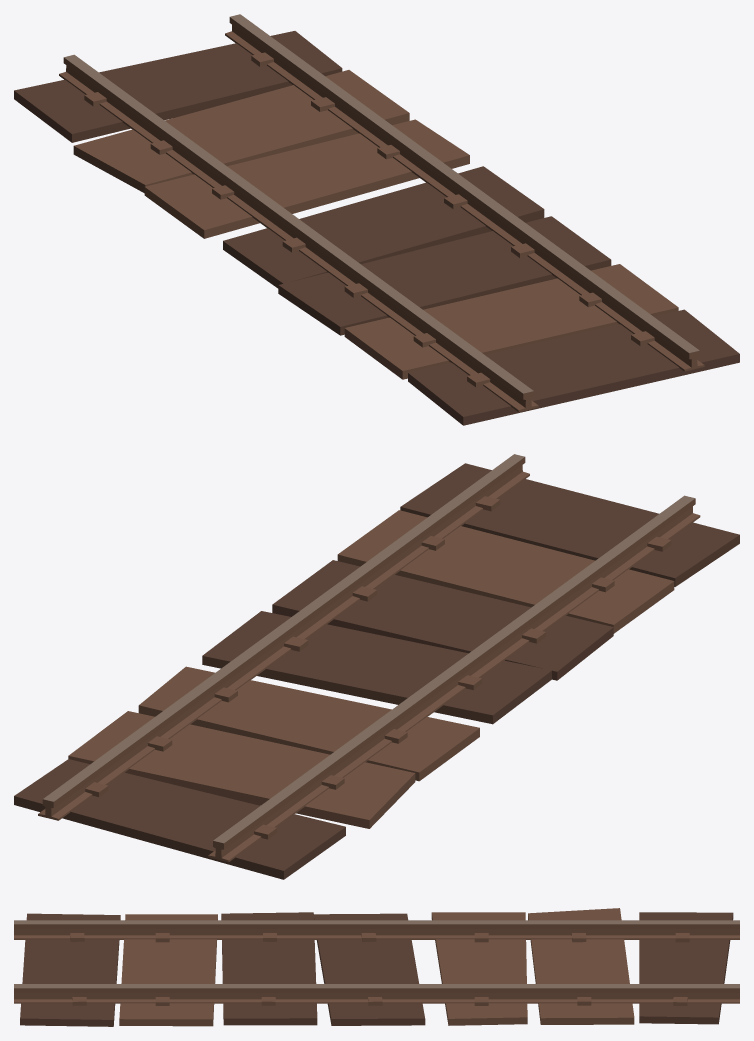
The model's file is Mines Car Track Ramp 3M.glb.
The picture shows the model from 3 angles, top to bottom: view 1: azimuth 30°, elevation 25°; view 2: azimuth 150°, elevation 25°; view 3: azimuth 270°, elevation 25°; orthographic projection. The views are drawn at different scales.
Visible parts, largest first — view 1: Mines Car Track 3M v4; view 2: Mines Car Track 3M v4; view 3: Mines Car Track 3M v4.
Part boxes in pixels (x1,y1,x2,y2): Mines Car Track 3M v4: (14,14,739,425); Mines Car Track 3M v4: (14,454,739,879); Mines Car Track 3M v4: (14,908,739,1026).
Size of what is drawn, in the model's own units: 1.09 by 0.092 by 3.
Materials: 1 (1 with a texture image).
